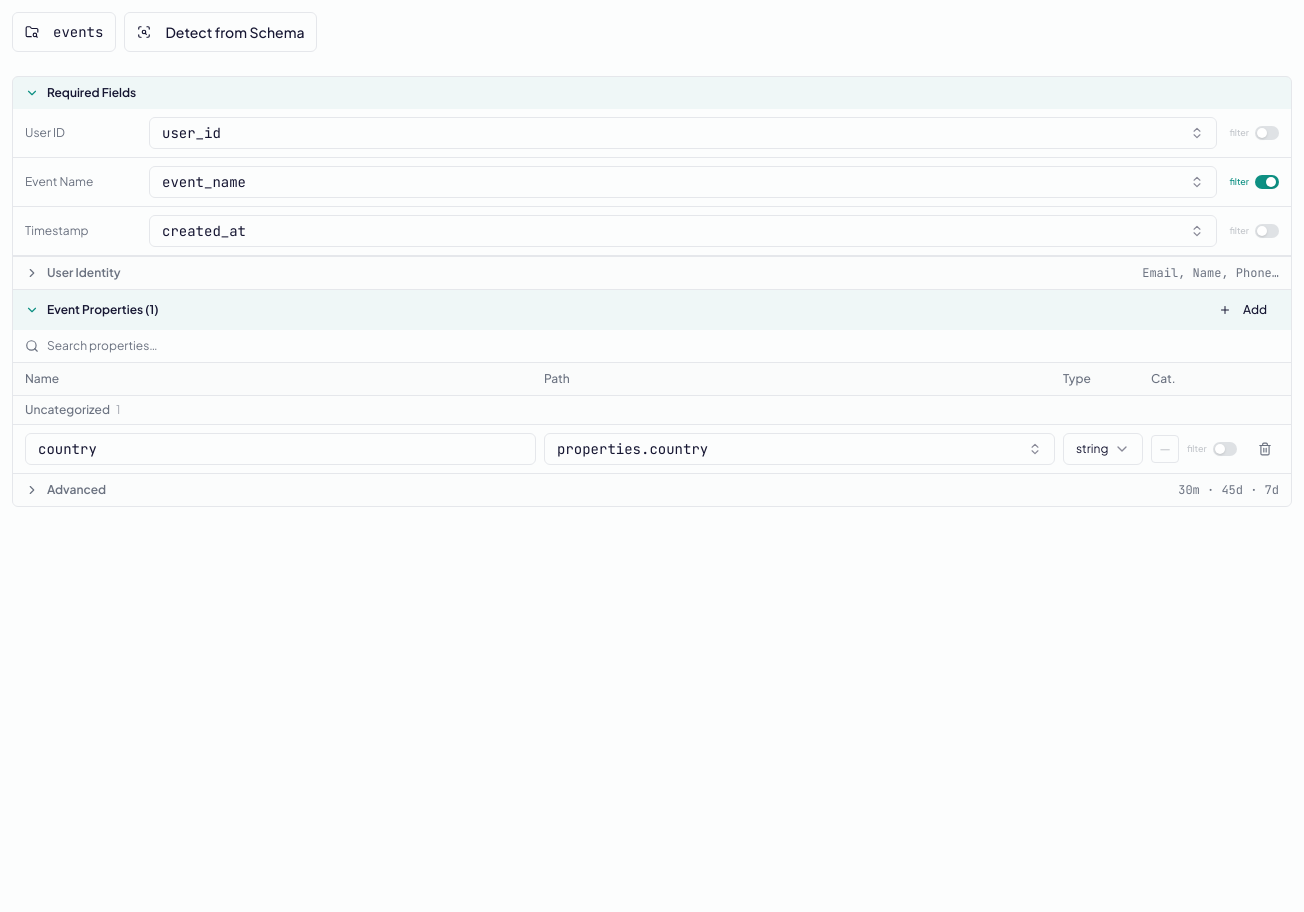
SchemaConfigTab — Setup section › shows session timeout input in the Advanced section
The image size is (1304, 912).
Click the button "Advanced 30m · 45d · 7d": (77, 490) [13,474,1291,506]
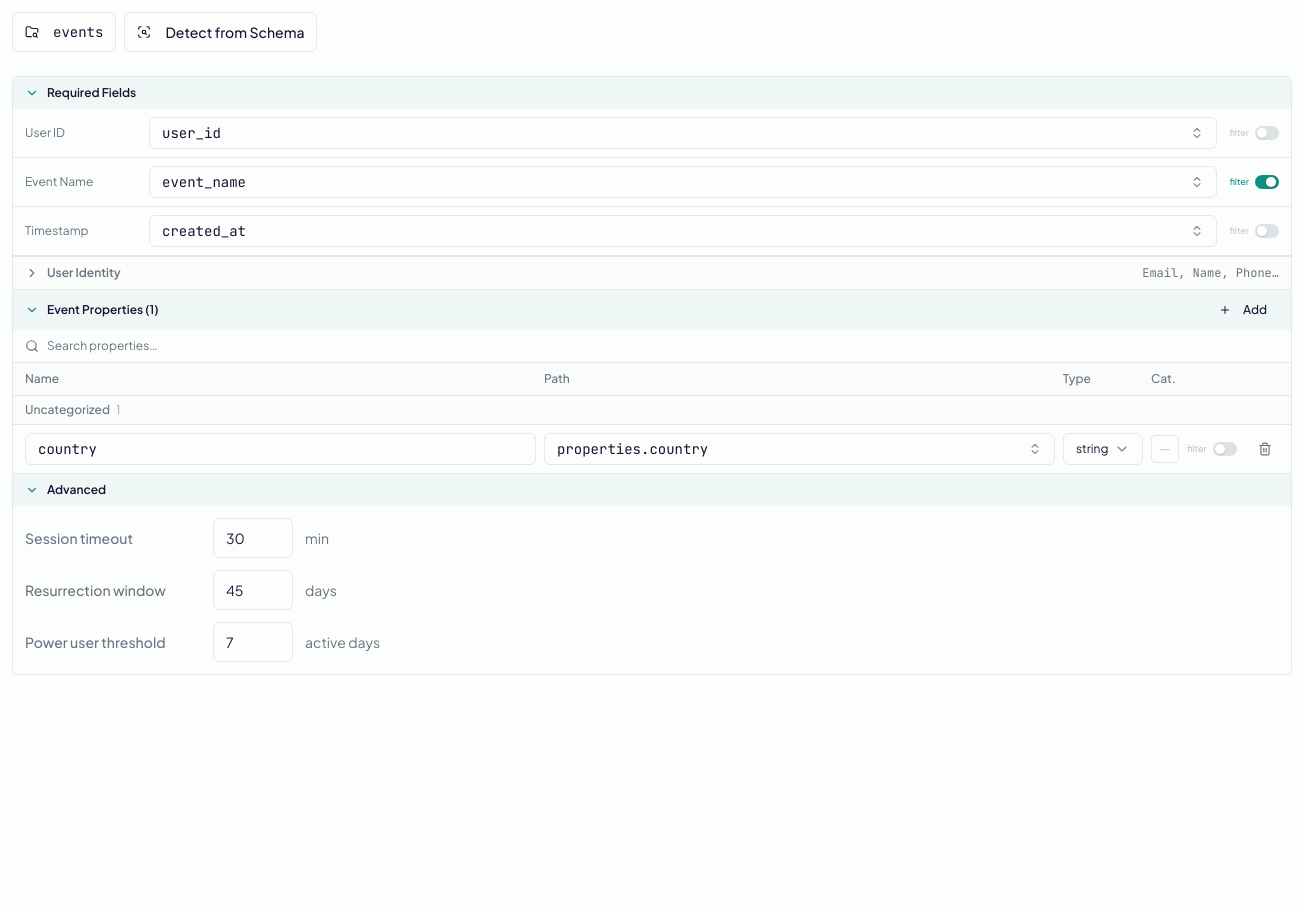
Now the number field showing "30" is shown, box [213,518,293,558]
